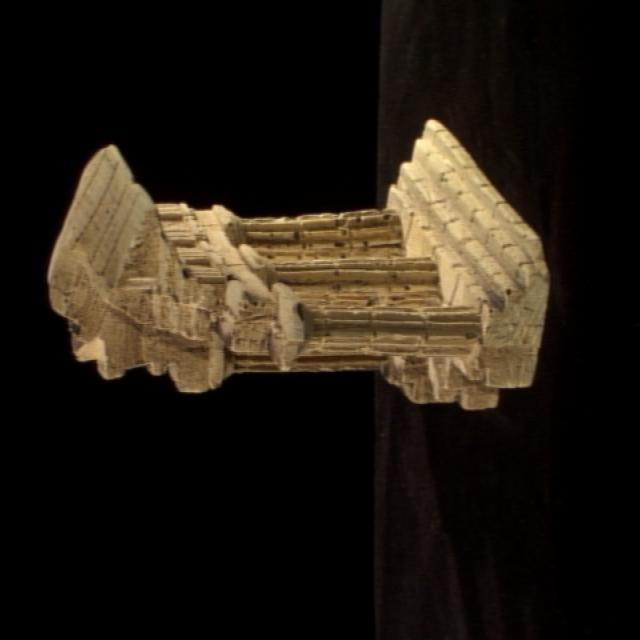Instance-Segmentation: (48, 120, 548, 408)
